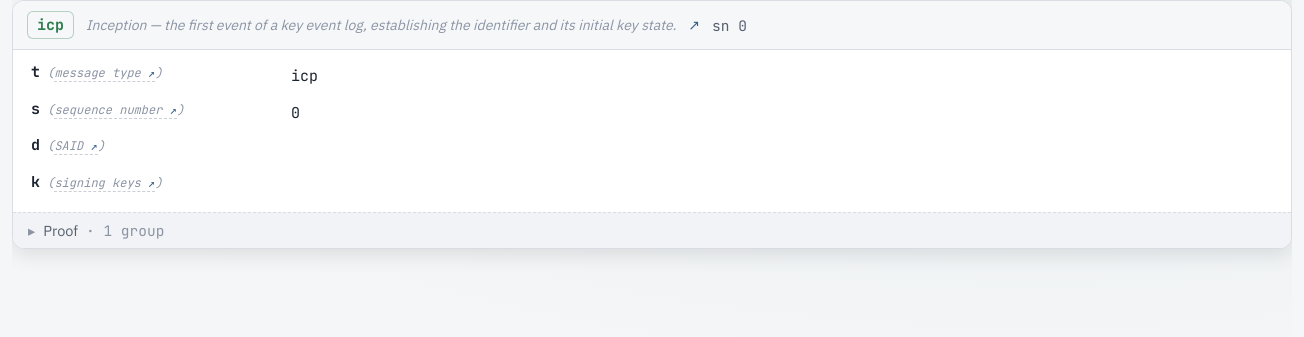
Test case: DecodedEvent › keeps the proof band collapsed by default and expands it on click
The width and height of the screenshot is (1304, 337).
Check: the text "-A" is not shown
Click the button "▸ Proof · 1 group".
click(61, 230)  # box [13,213,1291,248]
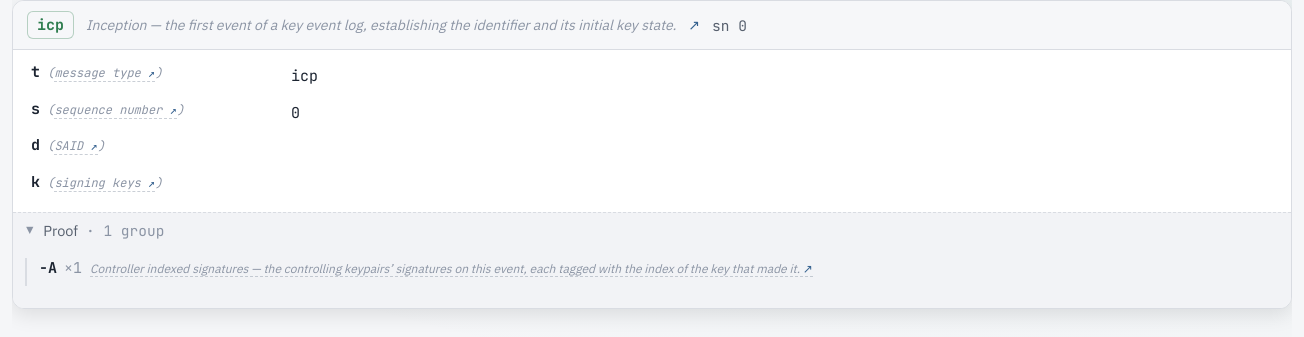
Check: the text "-A" is shown, box [39,258,57,278]
